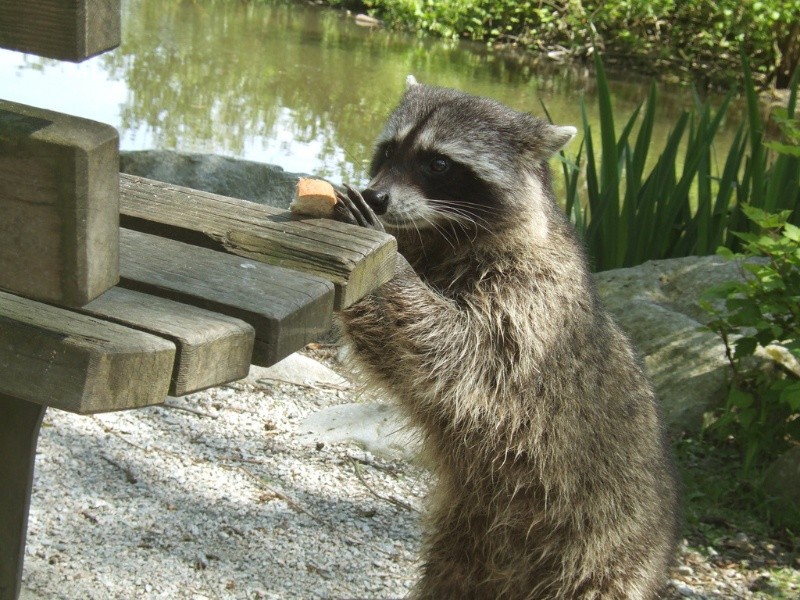raccoon: (286, 74, 684, 592)
